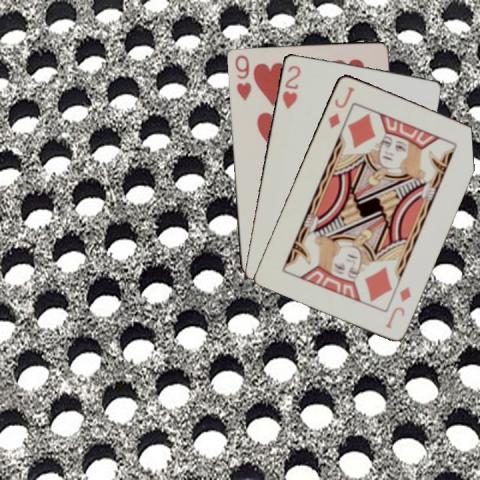2h: (279, 62, 302, 110)
9h: (232, 51, 252, 102)
Jd: (325, 83, 356, 129), (382, 284, 413, 330)
